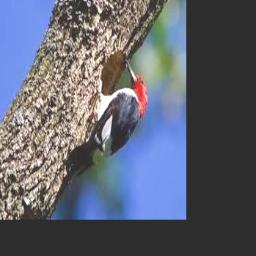Woodpecker: (66, 60, 147, 185)
